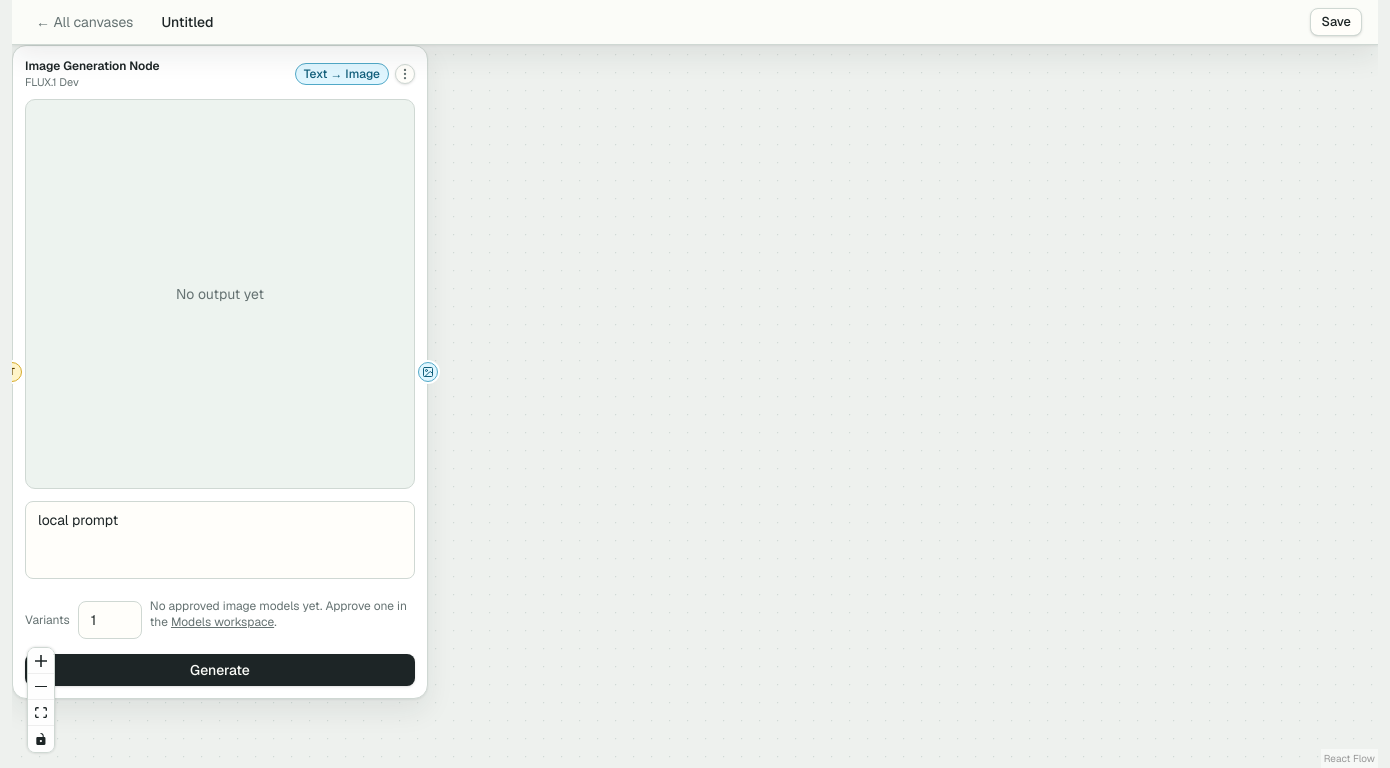
Test: CanvasEditor Node Details Drawer › updates the selected drawer when generation fails on the node
The width and height of the screenshot is (1390, 768).
Check: the text box showing "local prompt" is shown, box 25,500 -> 415,578
Click the element with class "react-flow__node" at (220, 372), box 12,45 -> 428,698
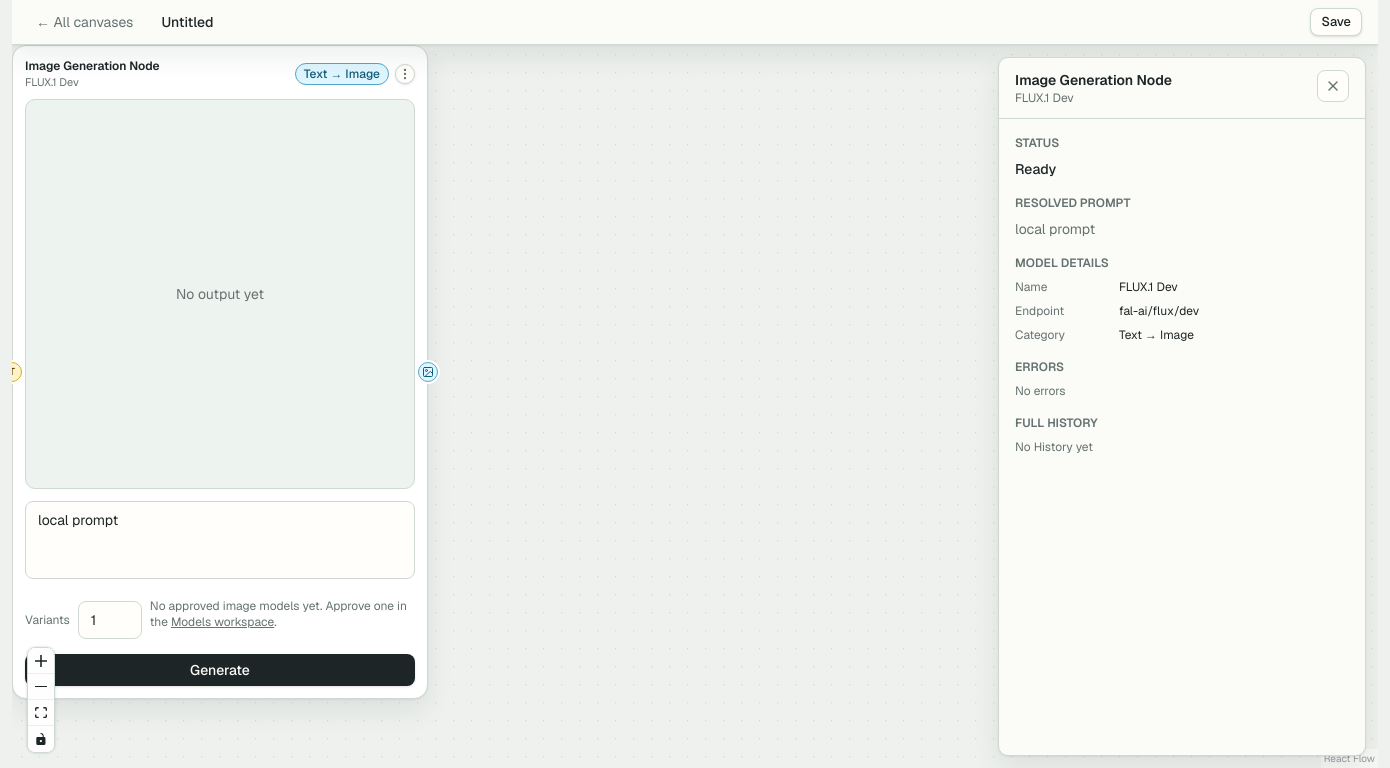
Check: the text "No errors" is shown, box 1015,383 -> 1066,399
Click the button "Generate" at (220, 670), box 25,654 -> 415,686
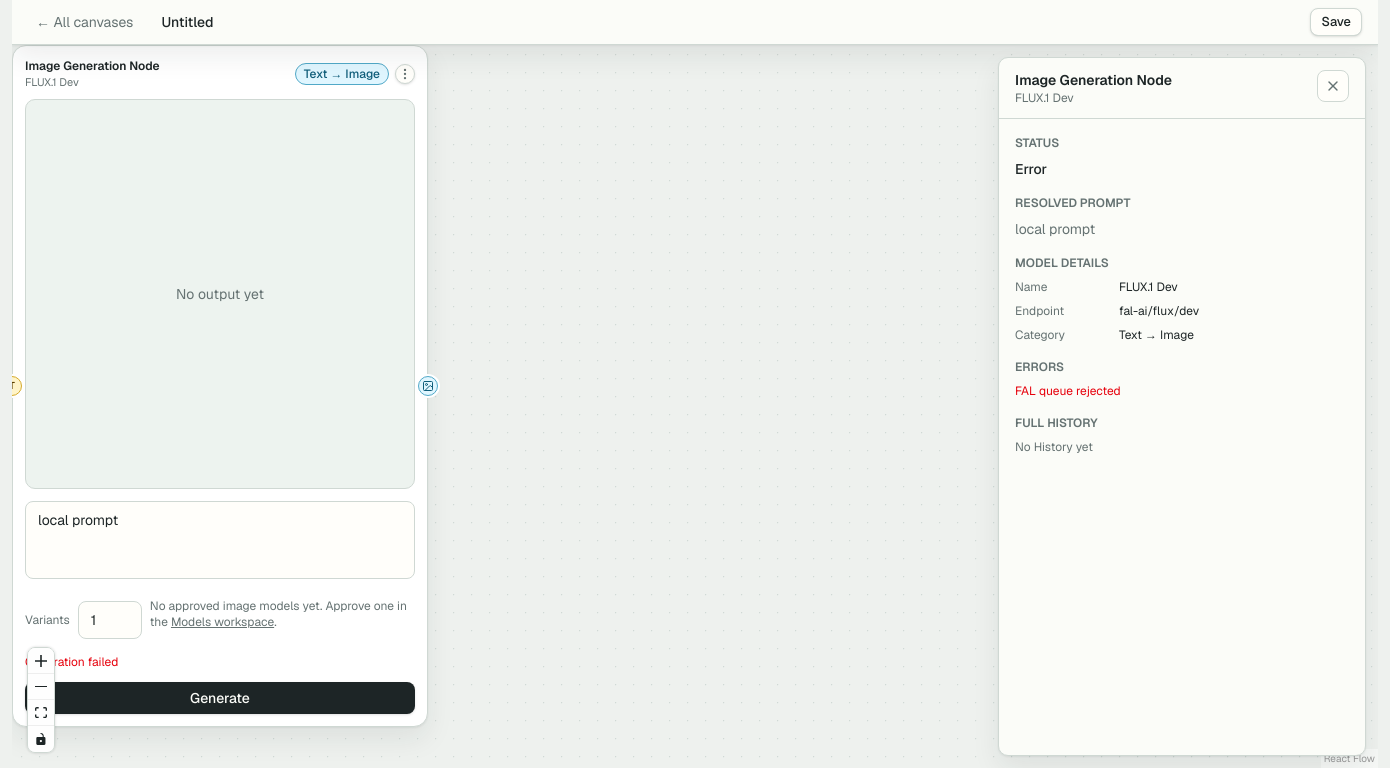
Check: the message reads "Generation failed", box 25,654 -> 118,670
Check: the text "Error" is shown, box 1015,160 -> 1047,178
Check: the list item "FAL queue rejected" is shown, box 1015,383 -> 1121,399
